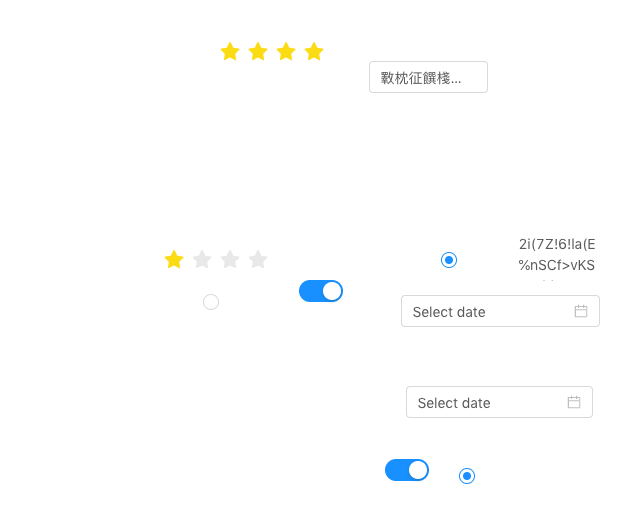DatePicker: (401, 295, 600, 327), (406, 386, 593, 418)
Input: (369, 61, 488, 93)
Radio: (203, 291, 219, 311), (459, 465, 475, 485), (441, 249, 457, 269)
Rate: (220, 35, 340, 67), (164, 243, 284, 275)
Switch: (299, 279, 343, 303), (385, 458, 429, 482)
Text: (519, 233, 600, 281)
